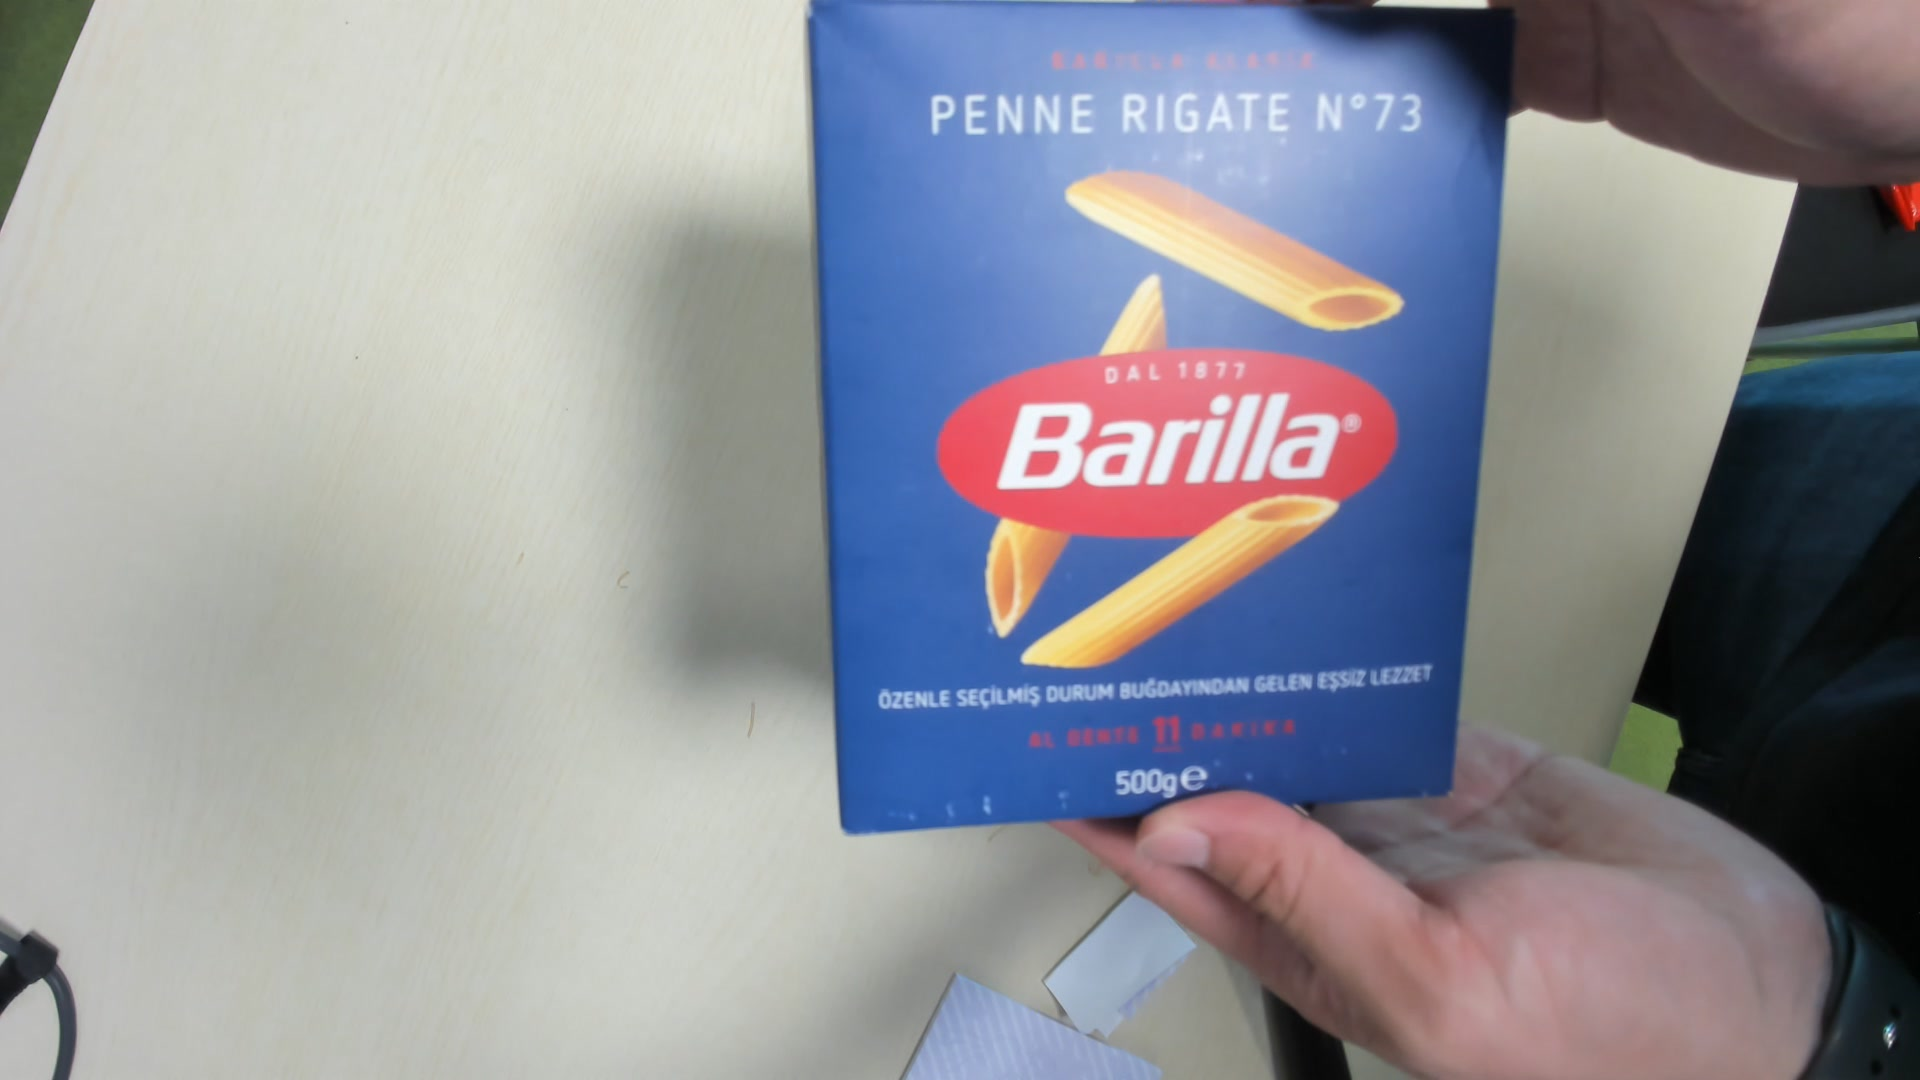Pasta_500-599g_NonHalal_NonHealthy: (810, 3, 1495, 822)
